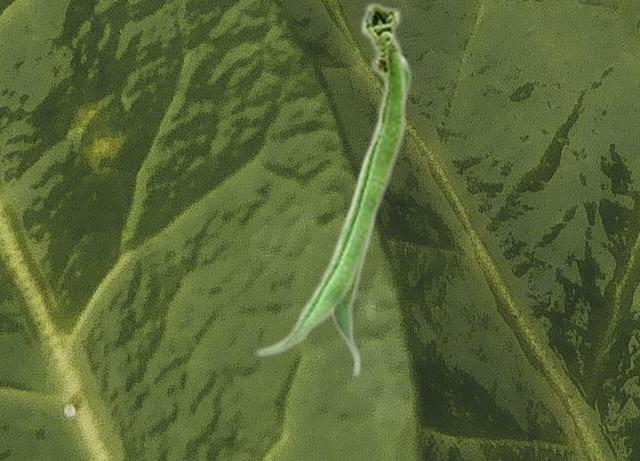french_bean: (254, 0, 406, 357), (329, 53, 411, 378)
